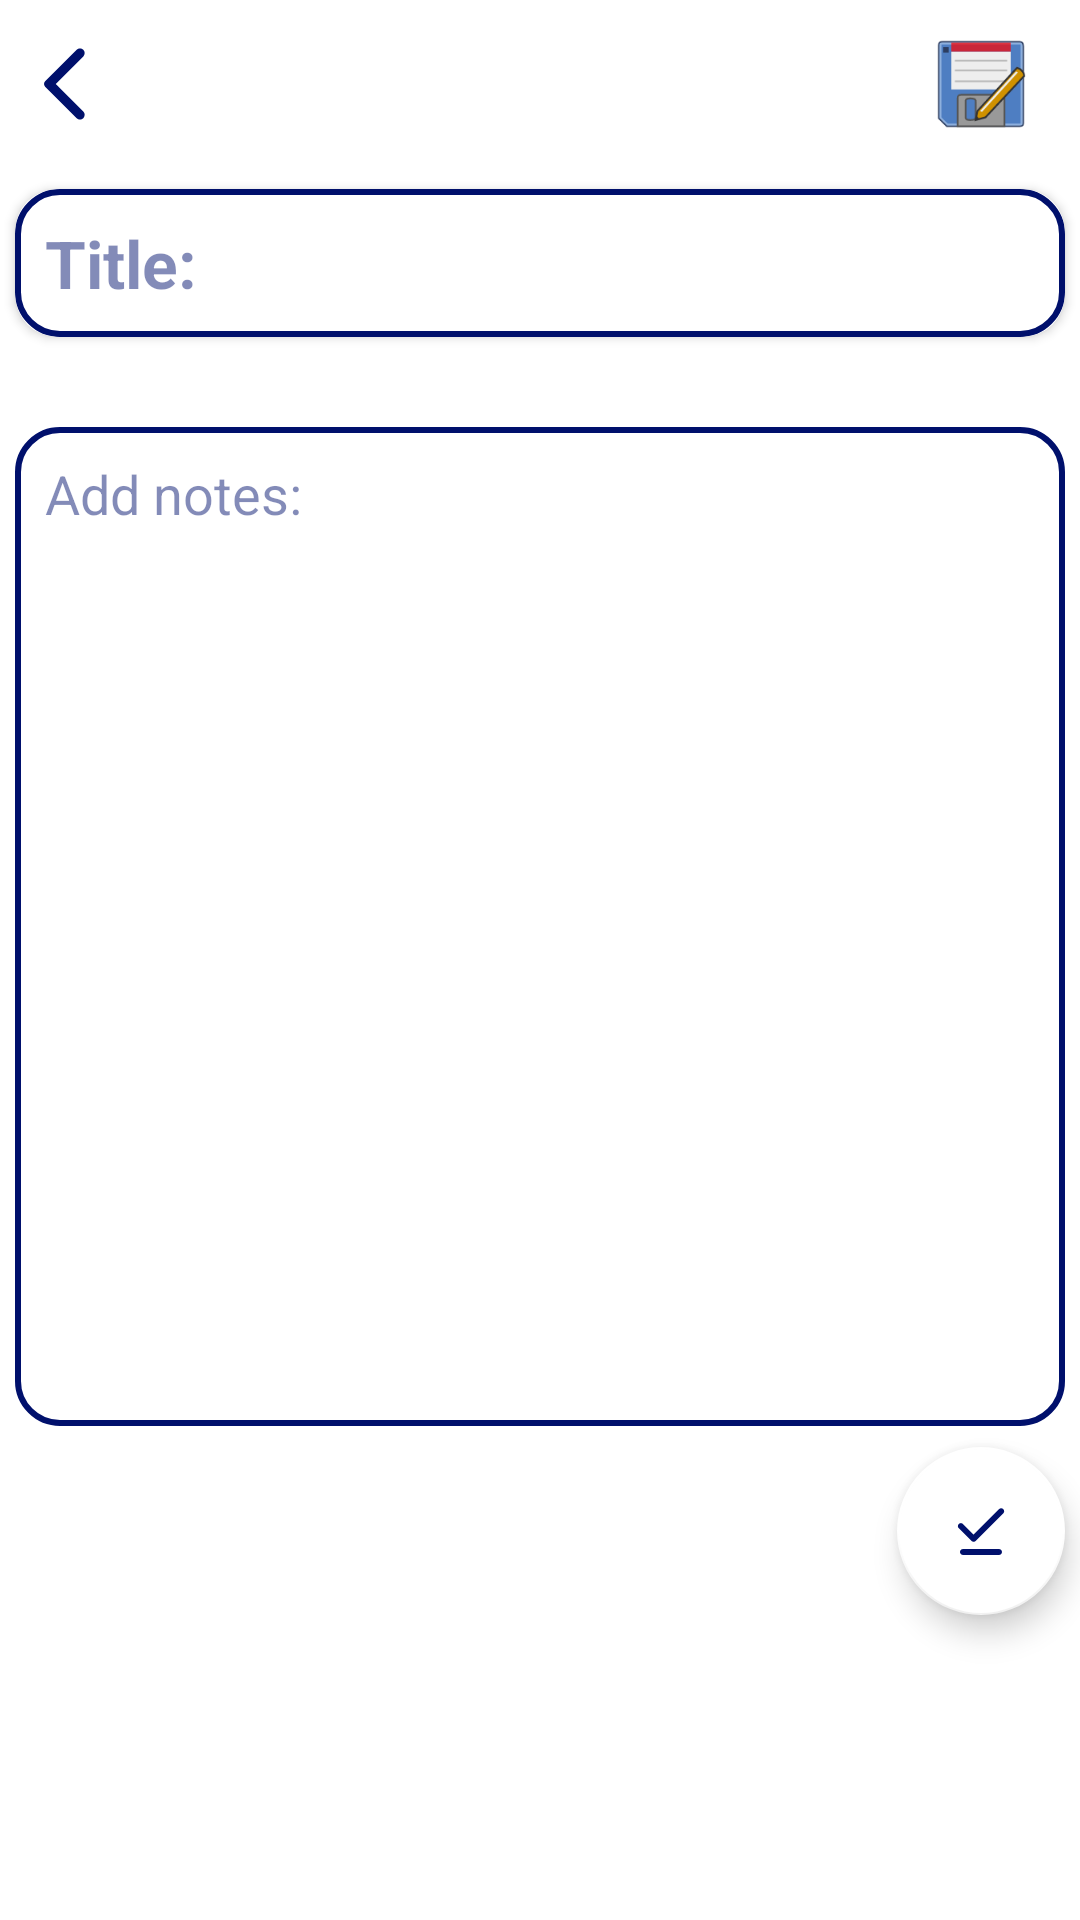

Where to tap for icons on this 1080 × 1920 app screen, as (x,y):
back: (64,84)
done save: (984,1561)
save note: (981,84)
